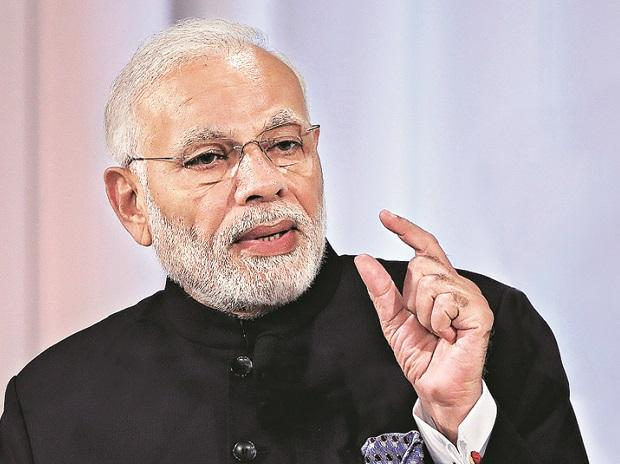modi: (60, 13, 379, 332)
